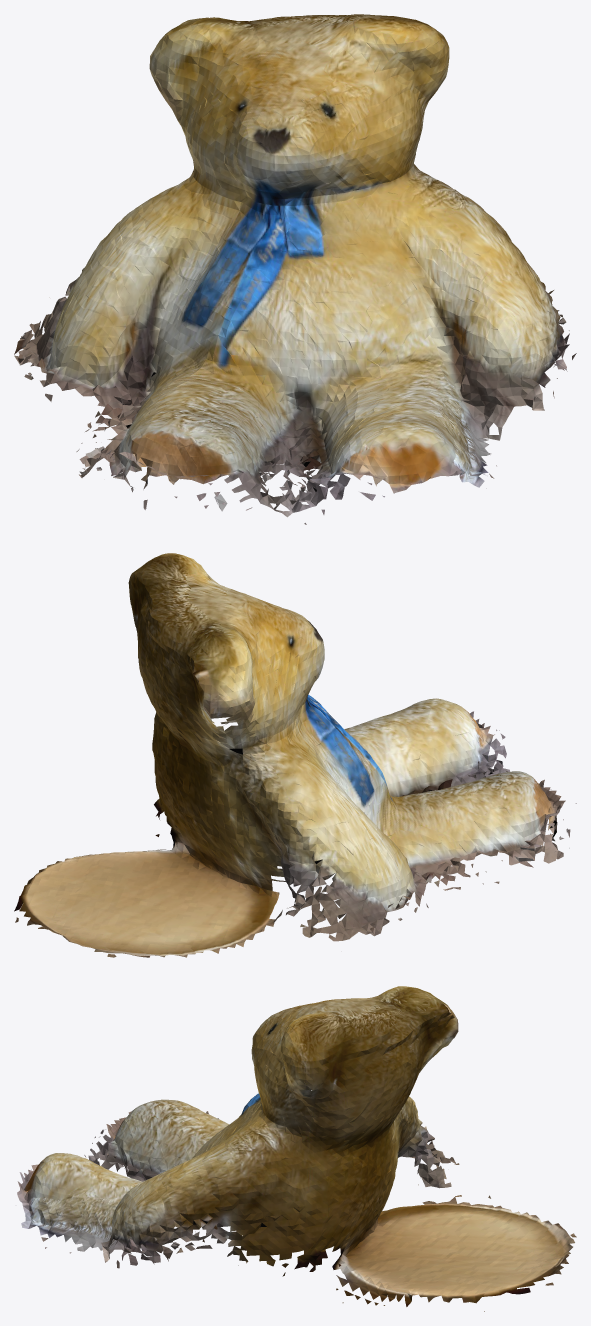
Rendered from bear.glb.
3 renders of one model, top to bottom at view 1: azimuth 30°, elevation 25°; view 2: azimuth 150°, elevation 25°; view 3: azimuth 270°, elevation 25°, orthographic. The views are drawn at different scales.
Size of the model in its own units: 0.83 by 0.577 by 1.1.
Materials: 1 (1 with a texture image).
